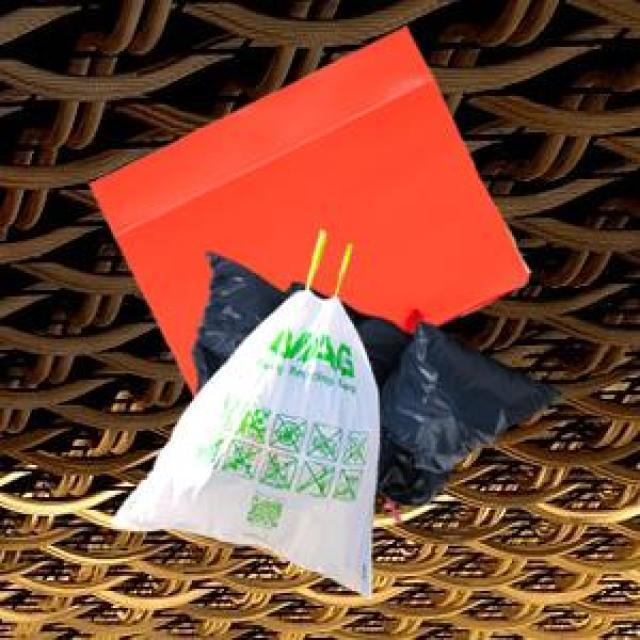miscellaneous trash: (188, 248, 557, 504)
paper: (85, 24, 525, 395)
